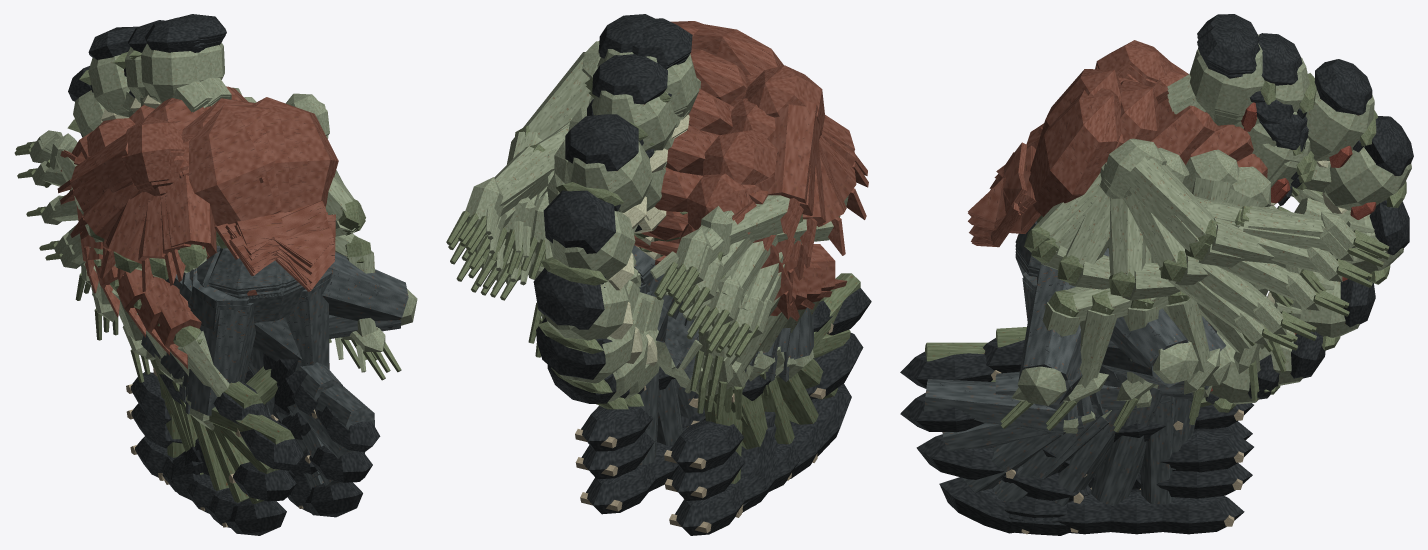
The model's file is runner_baked_poses.glb.
3 renders of one model, left to right at view 1: azimuth 30°, elevation 25°; view 2: azimuth 150°, elevation 25°; view 3: azimuth 270°, elevation 25°, orthographic. The views are drawn at different scales.
Visible parts, largest first — view 1: run_03, run_09, death_07, run_00, death_02, run_06, run_01, death_03, run_02, run_07, run_04, death_01 (+14 smaller); view 2: run_03, death_02, death_03, death_04, death_01, run_09, attack_00, death_05, run_06, run_07, run_05, run_04 (+13 smaller); view 3: run_09, death_02, death_03, run_07, death_06, death_07, run_00, run_06, death_01, run_03, run_08, death_04 (+14 smaller).
Part boxes in pixels (x1,y1,x2,y2): run_03: (45, 17, 364, 527); run_09: (153, 14, 338, 506); death_07: (153, 177, 417, 475); run_00: (100, 170, 380, 477); death_02: (75, 26, 316, 484); run_06: (185, 303, 303, 470); run_01: (69, 44, 365, 492); death_03: (67, 66, 310, 484); run_02: (44, 40, 364, 513); run_07: (138, 40, 334, 424); run_04: (60, 174, 365, 535); death_01: (102, 20, 319, 496); run_03: (629, 18, 825, 480); death_02: (528, 88, 799, 517); death_03: (535, 125, 794, 512); death_04: (533, 167, 799, 459); death_01: (588, 48, 805, 513); run_09: (483, 14, 867, 402); attack_00: (446, 126, 747, 300); death_05: (536, 211, 814, 427); run_06: (580, 273, 871, 514); run_07: (514, 91, 866, 491); run_05: (575, 291, 863, 479); run_04: (575, 143, 851, 462); run_09: (985, 22, 1326, 535); death_02: (1002, 59, 1377, 503); death_03: (1042, 116, 1413, 477); run_07: (973, 47, 1293, 534); death_06: (1046, 248, 1325, 430); death_07: (1000, 127, 1279, 489); run_00: (900, 198, 1180, 435); run_06: (900, 342, 1244, 534); death_01: (998, 33, 1316, 518); run_03: (973, 14, 1259, 442); run_08: (978, 44, 1275, 534); death_04: (1132, 153, 1409, 489).
Bounding box in the file's own units: 0.9639 × 1.47 × 1.41.
Materials: 1 (1 with a texture image).
